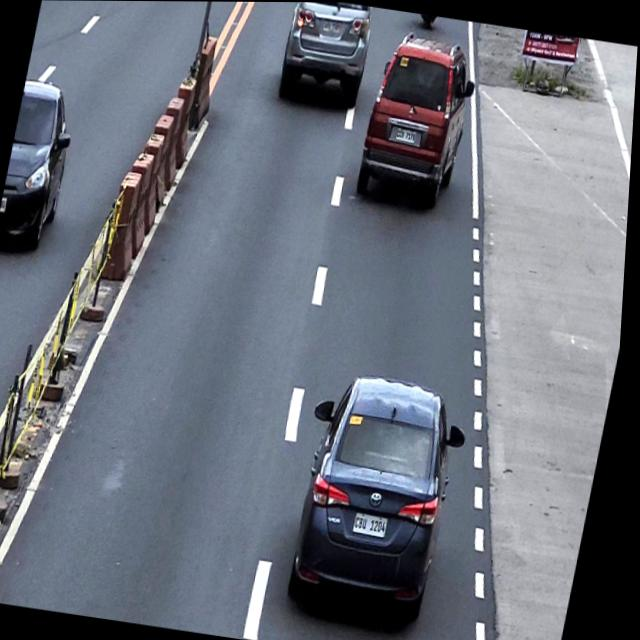Car: (281, 365, 482, 639), (354, 27, 485, 212), (0, 77, 86, 253), (273, 2, 378, 117)
License-Plate: (358, 509, 398, 538), (320, 17, 343, 37), (396, 128, 420, 144), (2, 198, 11, 215)
